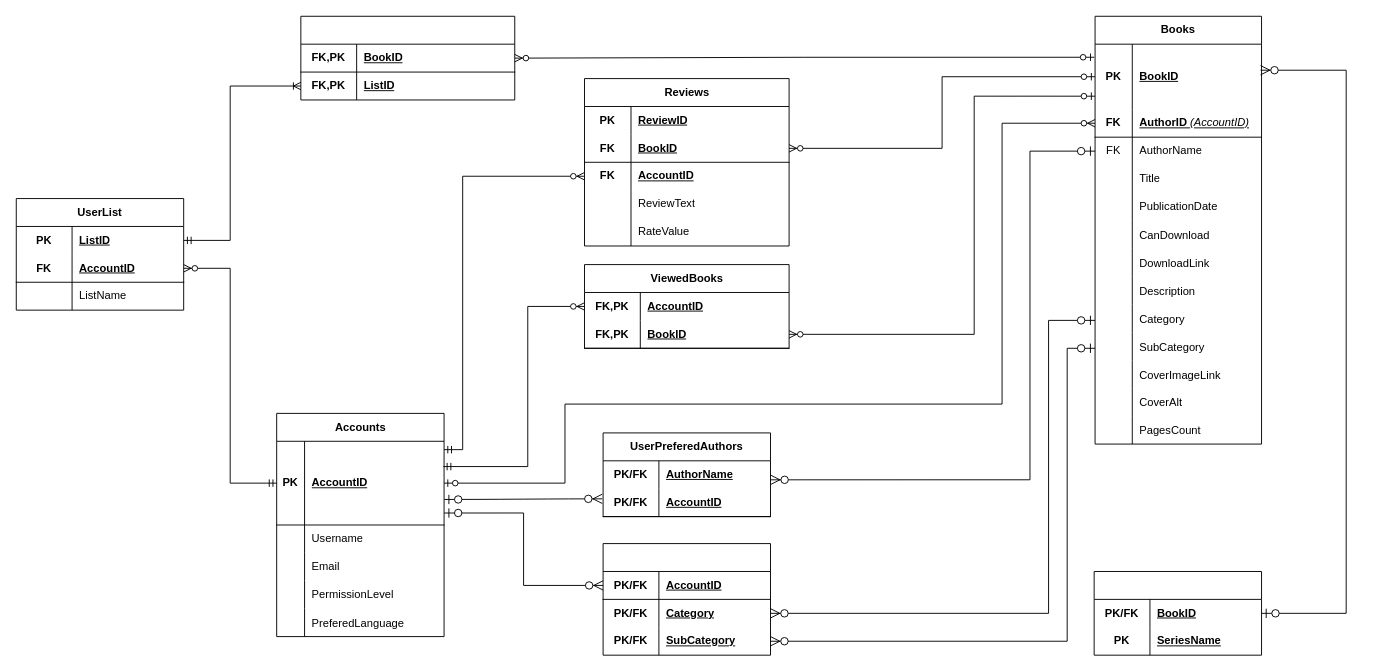
The diagram is 1373 pixels wide and 671 high, and some of its shapes have lost their labels. Here are the shapes that lost their labels. From the top down, the box of each, then its label:
(300, 15, 515, 100): BookList
(602, 543, 771, 655): UserPreferedCategories
(1093, 571, 1262, 655): BookSeires
